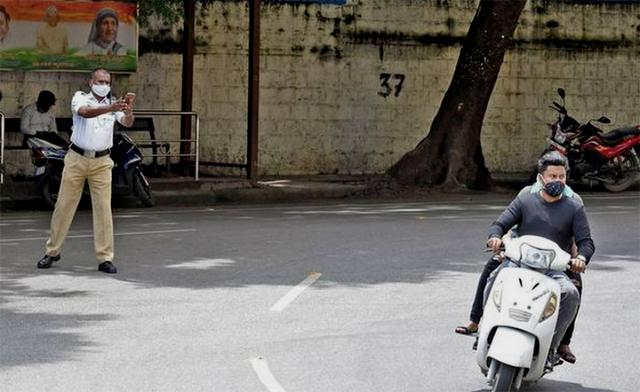motorcycle: (481, 148, 600, 392)
withoutHelmet: (536, 155, 582, 200)
